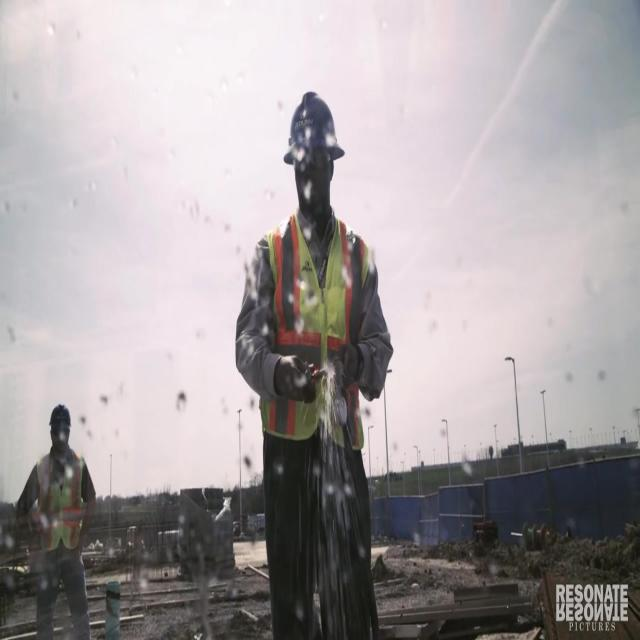Reflective-Jacket: (240, 210, 382, 479), (25, 446, 97, 564)
Safety-Helmet: (278, 81, 346, 177), (42, 393, 78, 441)
